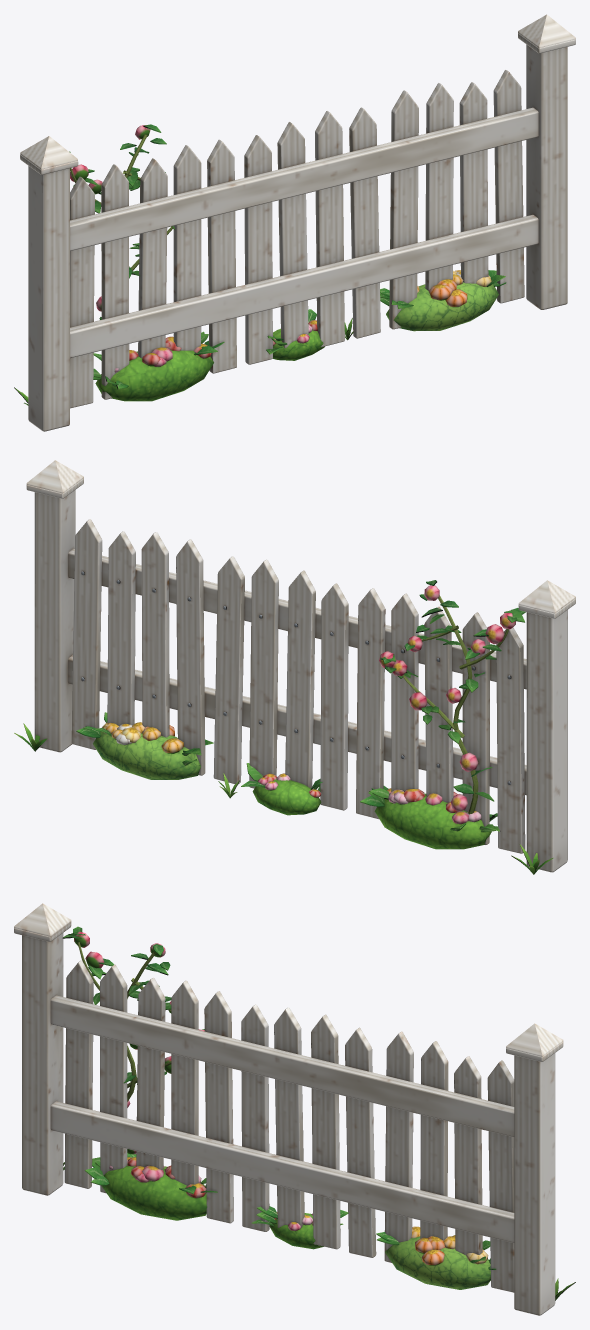
The model's file is picket-fence.fbx.
3 views of the same model, one above another, from view 1: azimuth 30°, elevation 25°; view 2: azimuth 150°, elevation 25°; view 3: azimuth 330°, elevation 25° (orthographic).
Parts seen in each view (by area): view 1: Body, Anim Sway, Anim Sway.001, Anim Sway.002; view 2: Body, Anim Sway, Anim Sway.001, Anim Sway.002; view 3: Body, Anim Sway, Anim Sway.001, Anim Sway.002.
Part boxes in pixels (x1,y1,x2,y2): Body: (14,14,575,431); Anim Sway: (69,124,224,401); Anim Sway.001: (380,270,506,331); Anim Sway.002: (266,309,324,360); Body: (14,460,575,874); Anim Sway: (360,580,525,849); Anim Sway.001: (76,712,213,779); Anim Sway.002: (241,763,322,815); Body: (14,903,575,1315); Anim Sway: (62,926,217,1220); Anim Sway.001: (376,1226,496,1289); Anim Sway.002: (251,1206,348,1249).
Size of the model in its own units: 1.96 by 1.01 by 0.2222.
